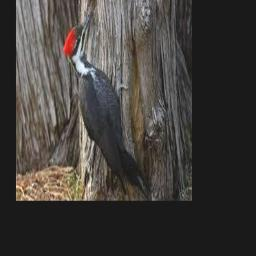Woodpecker: (62, 8, 148, 198)
